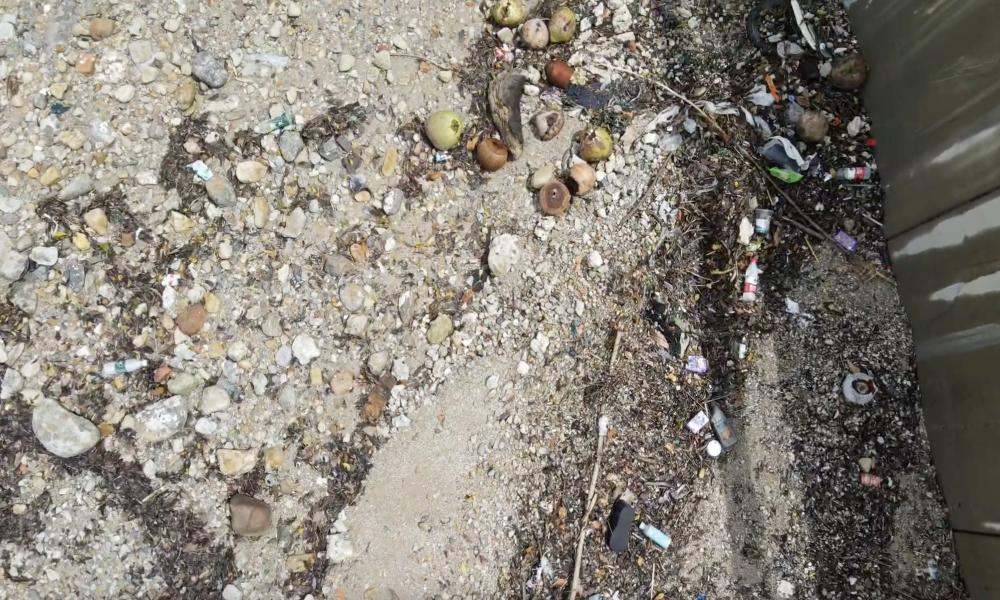carton: (832, 222, 858, 264), (685, 348, 709, 380)
plastic bottle: (741, 231, 764, 313), (818, 162, 884, 185), (635, 518, 675, 553), (95, 353, 151, 378)
plastic container: (705, 399, 748, 451), (743, 196, 779, 244)
